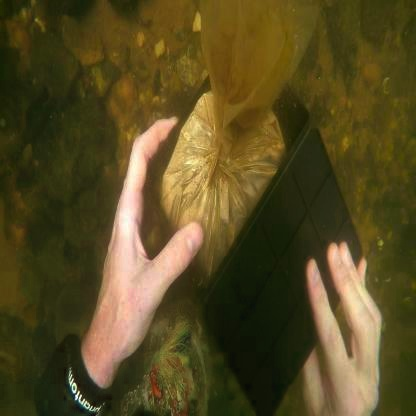pbag: (158, 1, 320, 287)
